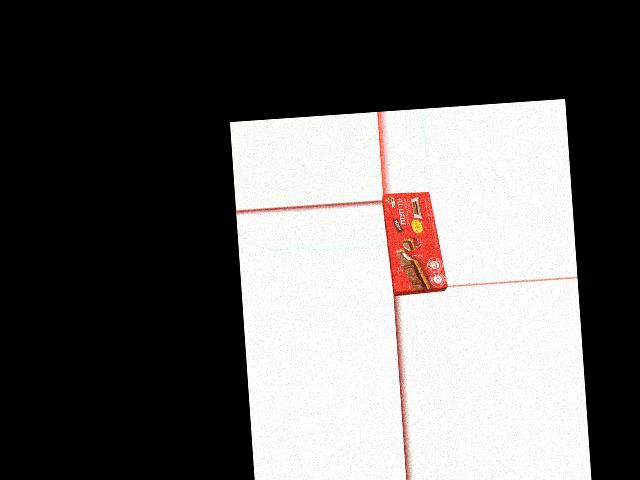chocolate: (386, 189, 442, 295)
